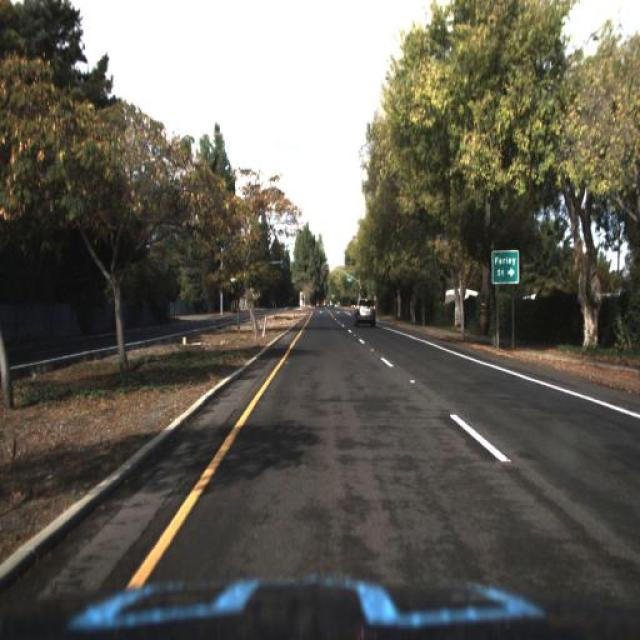car: (353, 294, 378, 330)
